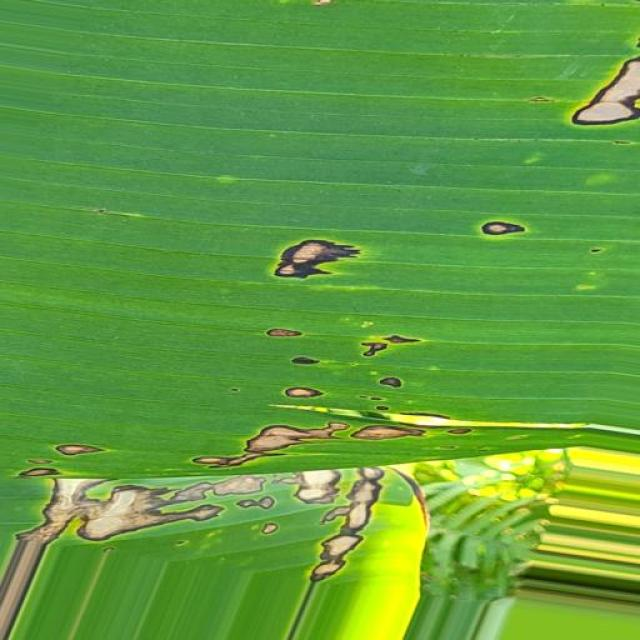Early_rust: (0, 220, 432, 584), (550, 35, 640, 186), (475, 196, 536, 254)
